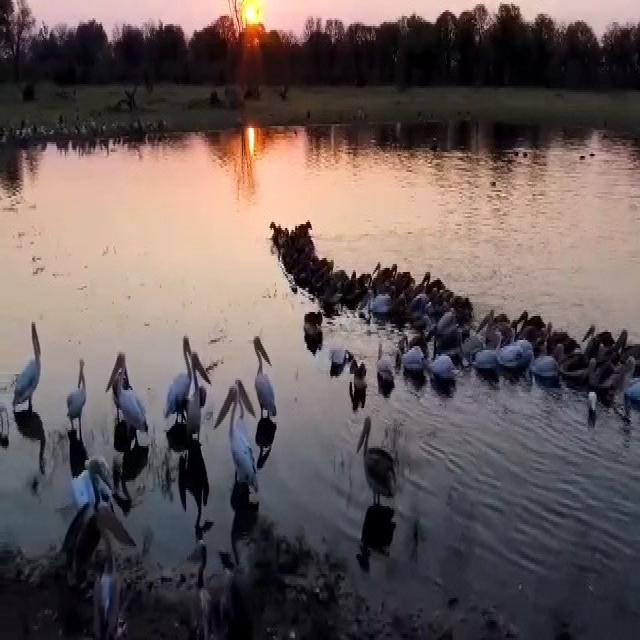Swan: (82, 458, 128, 610), (351, 413, 404, 515), (220, 386, 265, 506), (106, 358, 152, 450), (185, 536, 222, 640), (8, 328, 48, 420), (163, 329, 194, 431), (250, 333, 281, 421), (188, 357, 211, 469), (63, 365, 93, 432), (494, 328, 528, 378), (536, 350, 571, 396), (302, 297, 328, 348), (371, 338, 395, 392), (423, 265, 455, 304), (372, 255, 402, 294), (582, 325, 612, 358), (368, 289, 398, 321), (402, 329, 422, 376), (625, 347, 640, 406), (332, 340, 348, 376), (434, 354, 453, 380), (592, 389, 602, 428)
